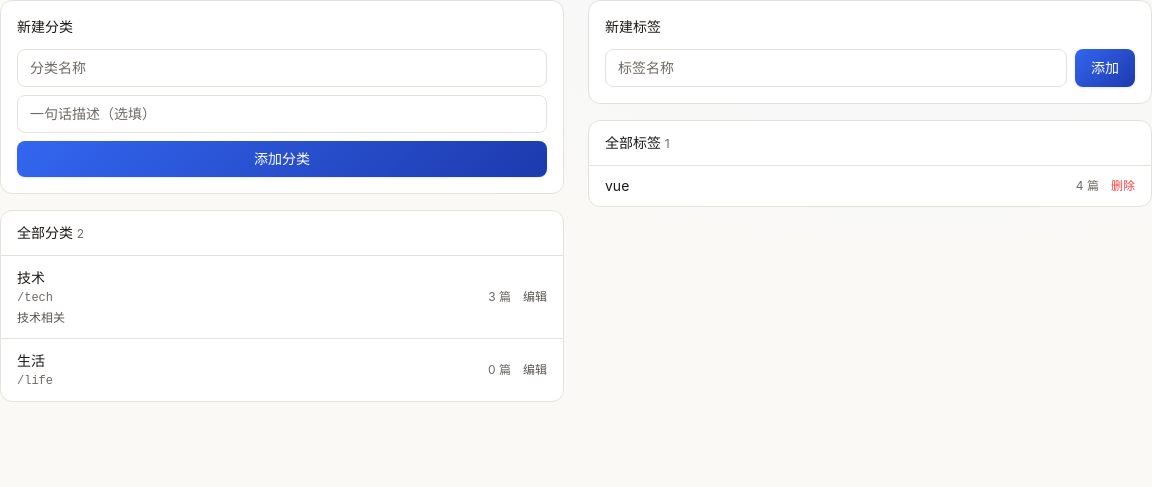
it: TaxonomyView · 重命名分类 › 取消编辑：不发请求，回到只读态且原内容不变
Click the button "编辑" next to "3 篇".
click(535, 297)  # box [523, 289, 547, 305]
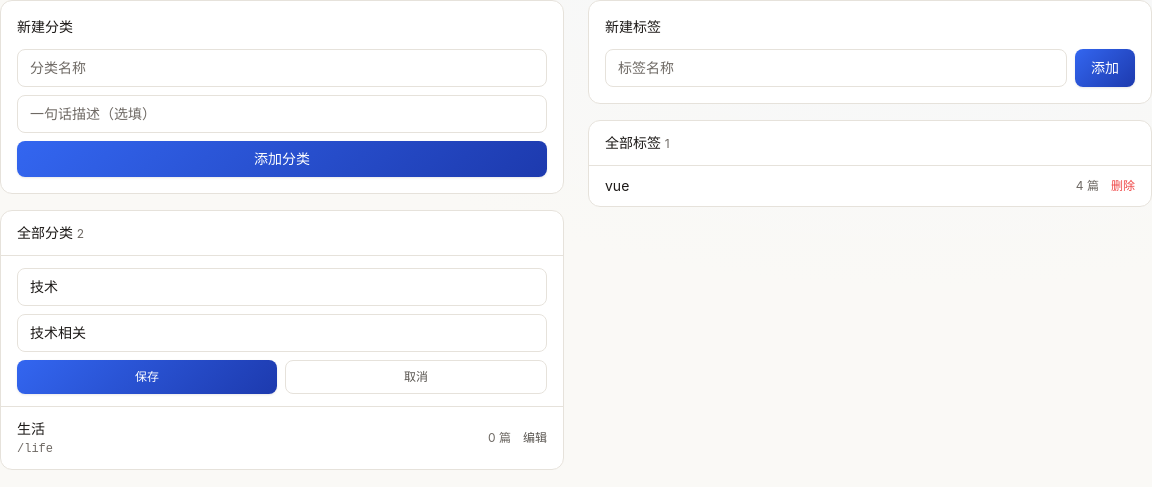
Replace the text in the field named "分类名称" with "改了一半" at (282, 287), box [17, 268, 547, 306]
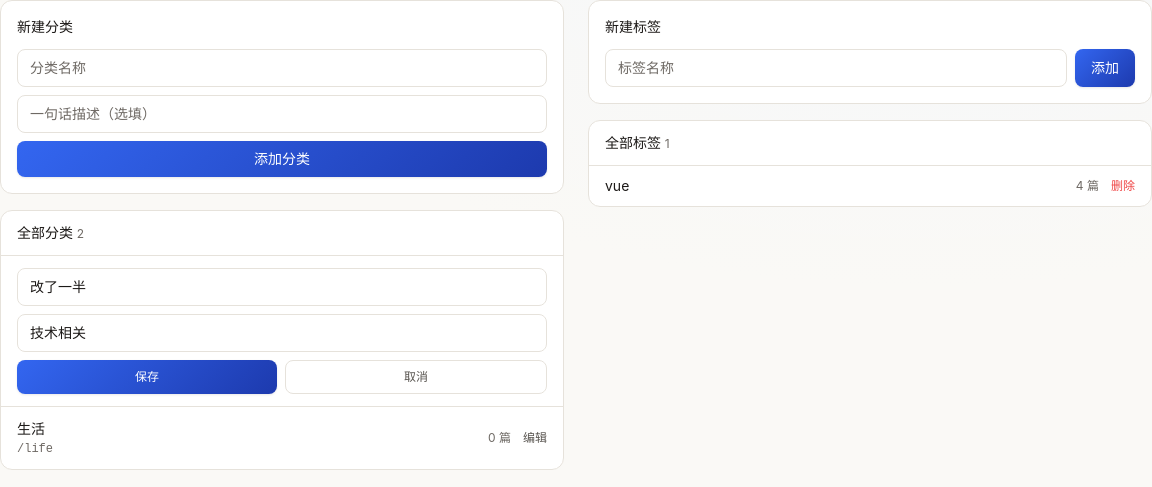
Click the button "取消".
click(416, 377)  # box [285, 360, 547, 394]
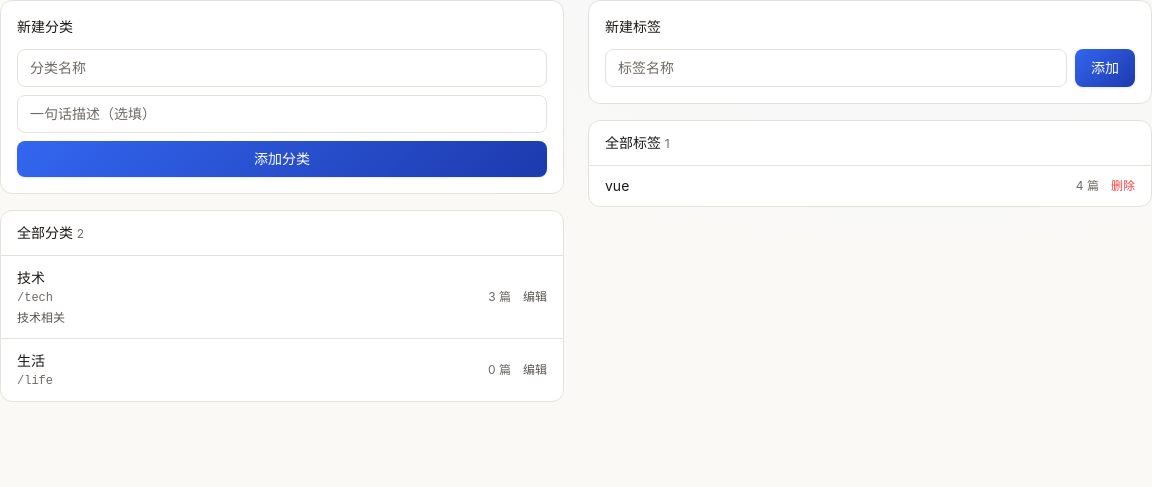
Expected: the text "改了一半" is not shown
Now the element showing "新建分类 添加分类 全部分类 2 技术 /tech 技术相关 3 篇 编辑 生活 /life 0 篇 编辑" is shown, box [0, 0, 564, 402]
